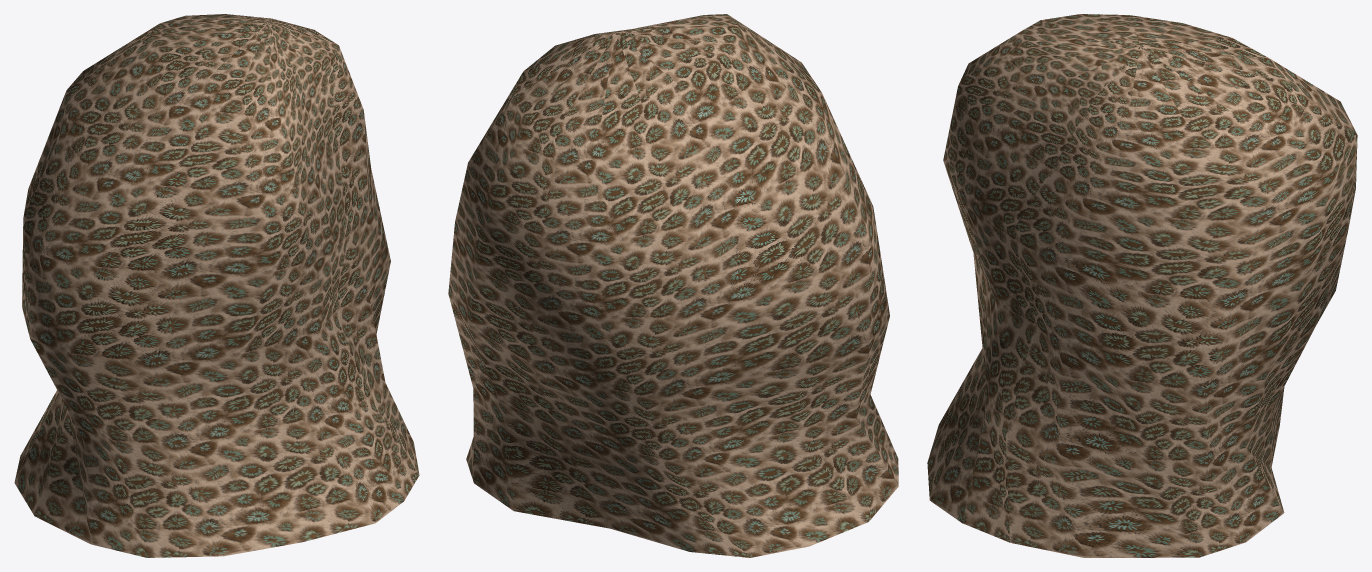
File: SG_envProp_Coral1v3.FBX
3 views of the same model, side by side, from view 1: azimuth 30°, elevation 25°; view 2: azimuth 150°, elevation 25°; view 3: azimuth 270°, elevation 25° (orthographic). The views are drawn at different scales.
Parts seen in each view (by area): view 1: SG_envProp_Coral1v3; view 2: SG_envProp_Coral1v3; view 3: SG_envProp_Coral1v3.
Boxes of the visible parts, box(x1,y1,x2,y2) form: SG_envProp_Coral1v3: box(14, 14, 419, 557); SG_envProp_Coral1v3: box(448, 14, 898, 557); SG_envProp_Coral1v3: box(927, 14, 1357, 557).
Bounding box in the file's own units: 0.2176 × 0.2365 × 0.2049.
